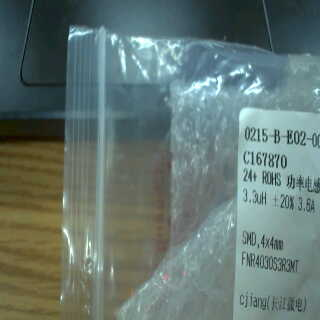3.3uH: (239, 187, 266, 211)
